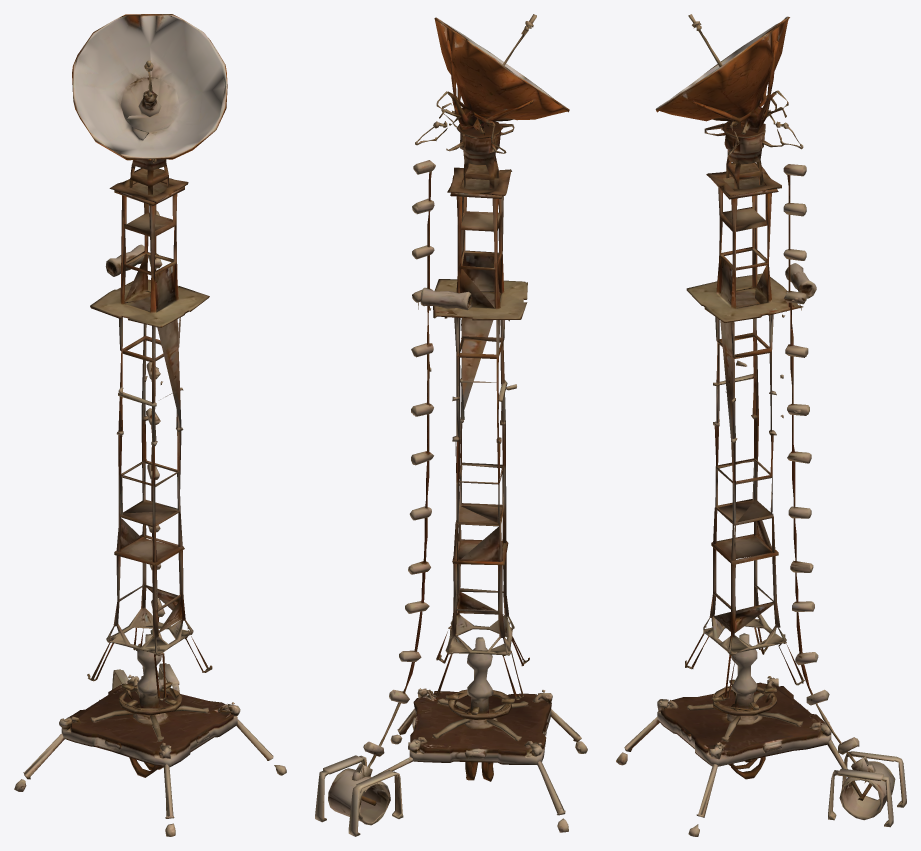
File: antenna.glb
3 renders of one model, left to right at view 1: azimuth 30°, elevation 25°; view 2: azimuth 150°, elevation 25°; view 3: azimuth 270°, elevation 25°, orthographic.
Visible parts, largest first — view 1: tripo_node_521b9e83-b45d-40f7-8241-5df34262ceed; view 2: tripo_node_521b9e83-b45d-40f7-8241-5df34262ceed; view 3: tripo_node_521b9e83-b45d-40f7-8241-5df34262ceed.
Boxes of the visible parts, bbox=[...] form: tripo_node_521b9e83-b45d-40f7-8241-5df34262ceed: bbox=[14, 14, 286, 836]; tripo_node_521b9e83-b45d-40f7-8241-5df34262ceed: bbox=[315, 14, 587, 836]; tripo_node_521b9e83-b45d-40f7-8241-5df34262ceed: bbox=[616, 14, 906, 836].
Size of the model in its own units: 0.3106 by 0.998 by 0.3457.
Materials: 1 (1 with a texture image).
